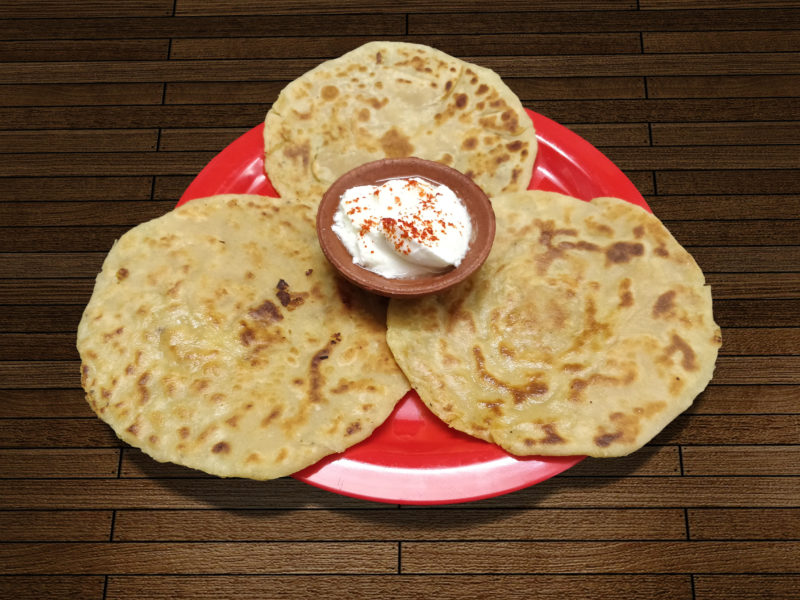aloo_paratha: (70, 40, 726, 481)
